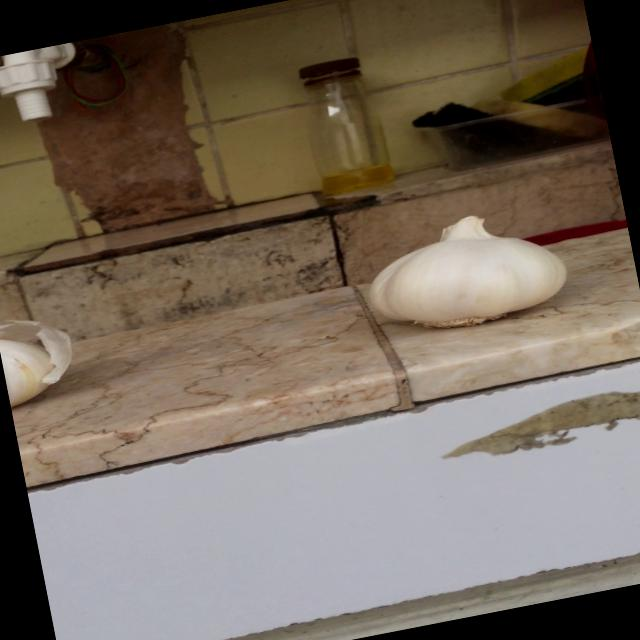bawang: (351, 196, 578, 348)
